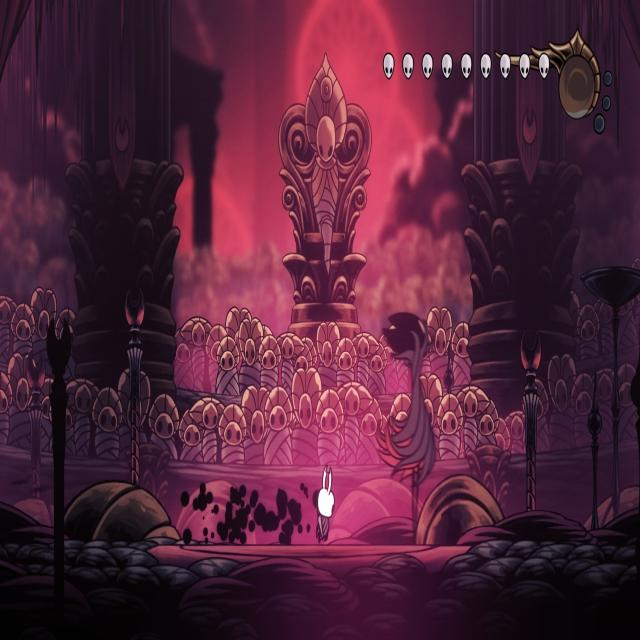Grimm: (377, 312, 439, 537)
Player: (312, 462, 338, 545)
